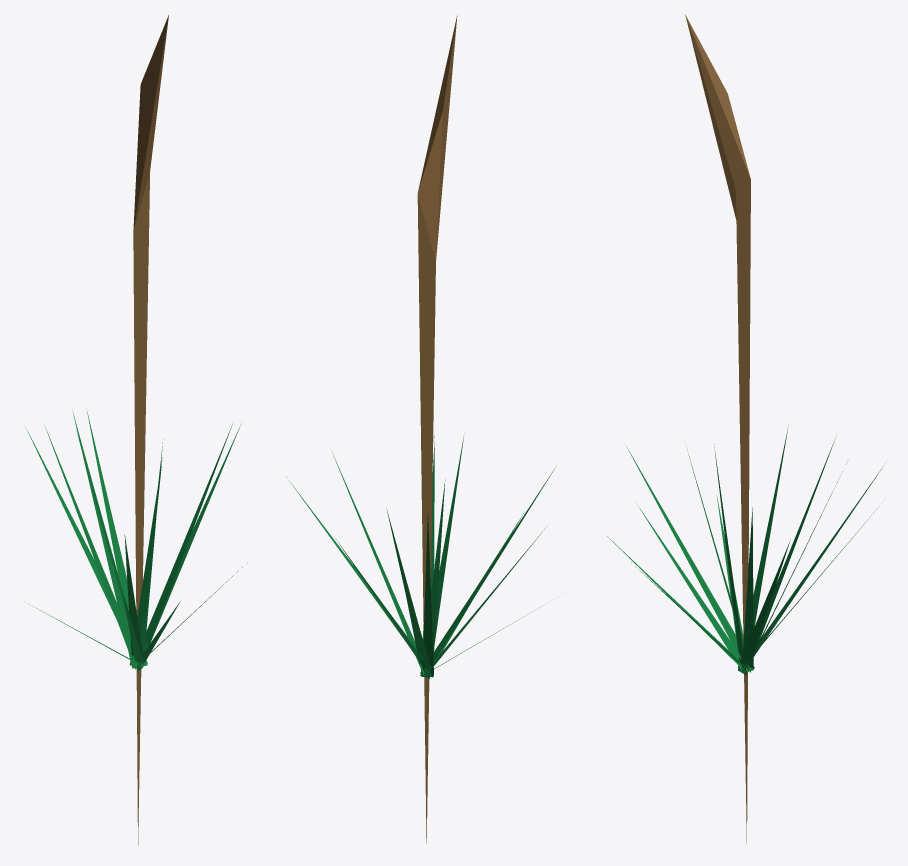
Rendered from DesertSpoon_LOD3.fbx.
3 renders of one model, left to right at view 1: azimuth 30°, elevation 25°; view 2: azimuth 150°, elevation 25°; view 3: azimuth 270°, elevation 25°, orthographic. The views are drawn at different scales.
Visible parts, largest first — view 1: DesertSpoon_LOD3; view 2: DesertSpoon_LOD3; view 3: DesertSpoon_LOD3.
Boxes of the visible parts, left/top/right/bottom form: DesertSpoon_LOD3: left=24, top=15, right=247, bottom=845; DesertSpoon_LOD3: left=289, top=15, right=555, bottom=843; DesertSpoon_LOD3: left=607, top=14, right=883, bottom=842.
Bounding box in the file's own units: 87.66 × 278 × 90.22.
